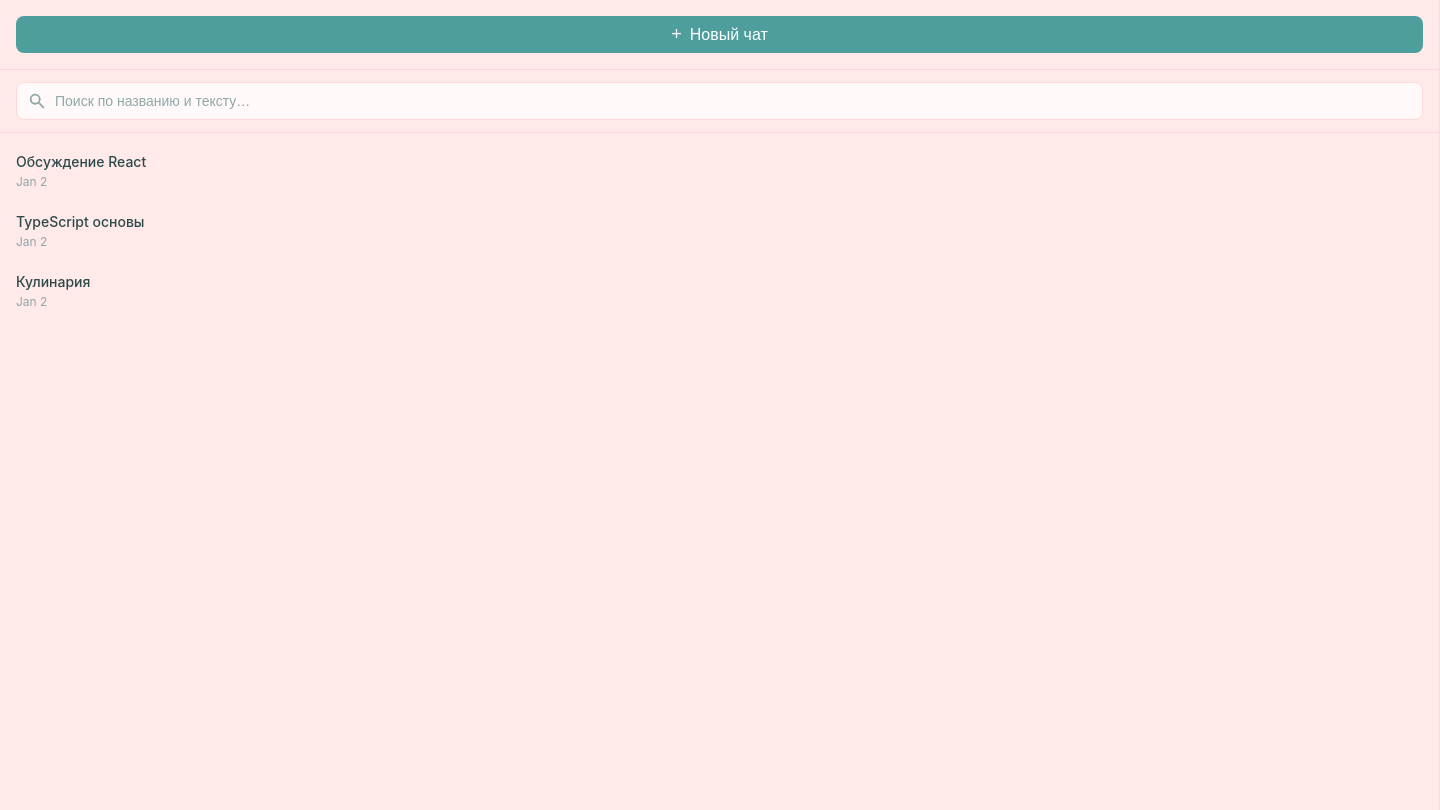
Test: Sidebar › поиск учитывает lastMessagePreview
The image size is (1440, 810).
Type "рецепт" into the field named "поиск чатов" at (720, 101), box [16, 82, 1423, 120]
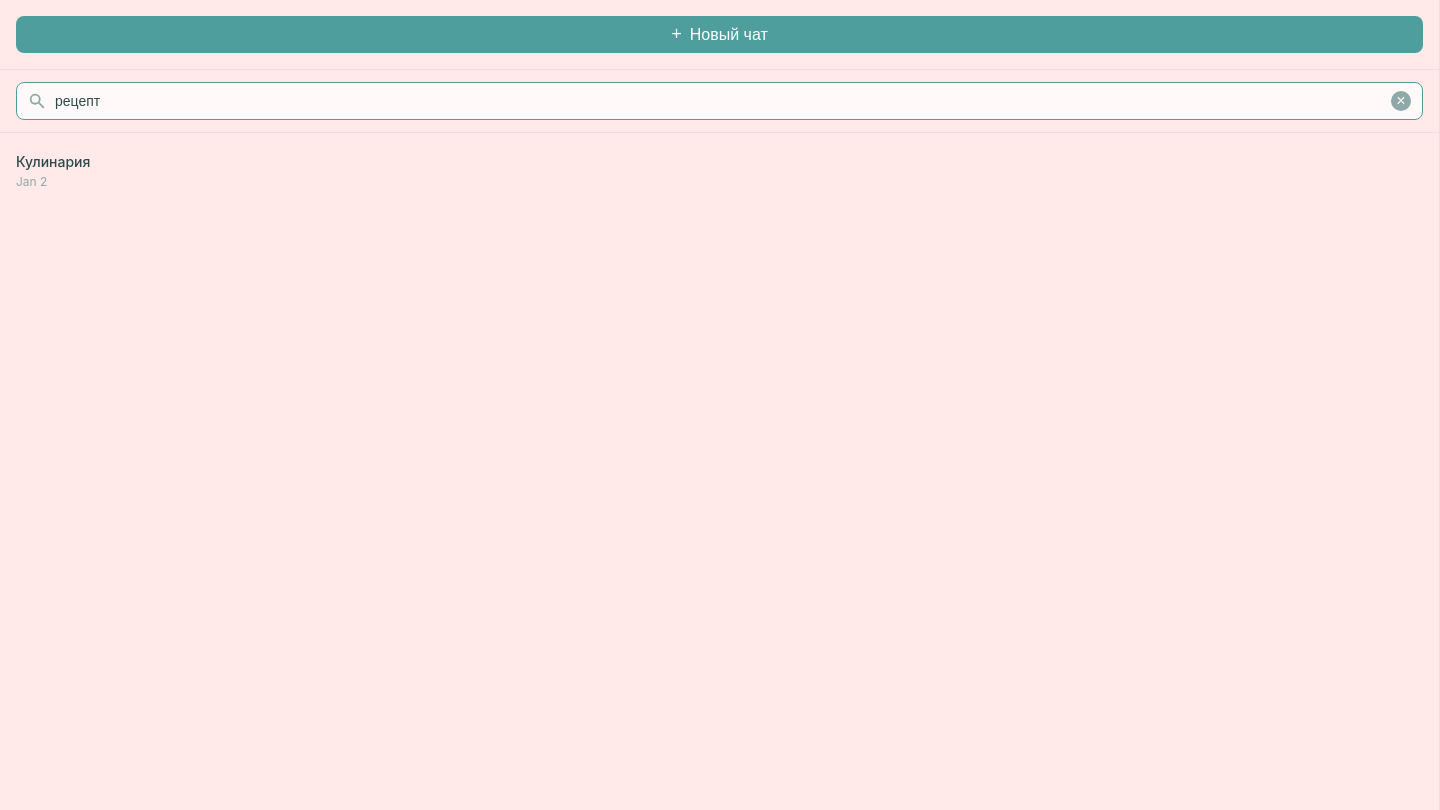
expect the text "Кулинария" is shown: met, box [16, 153, 90, 170]
expect the text "Обсуждение React" is gone: met
